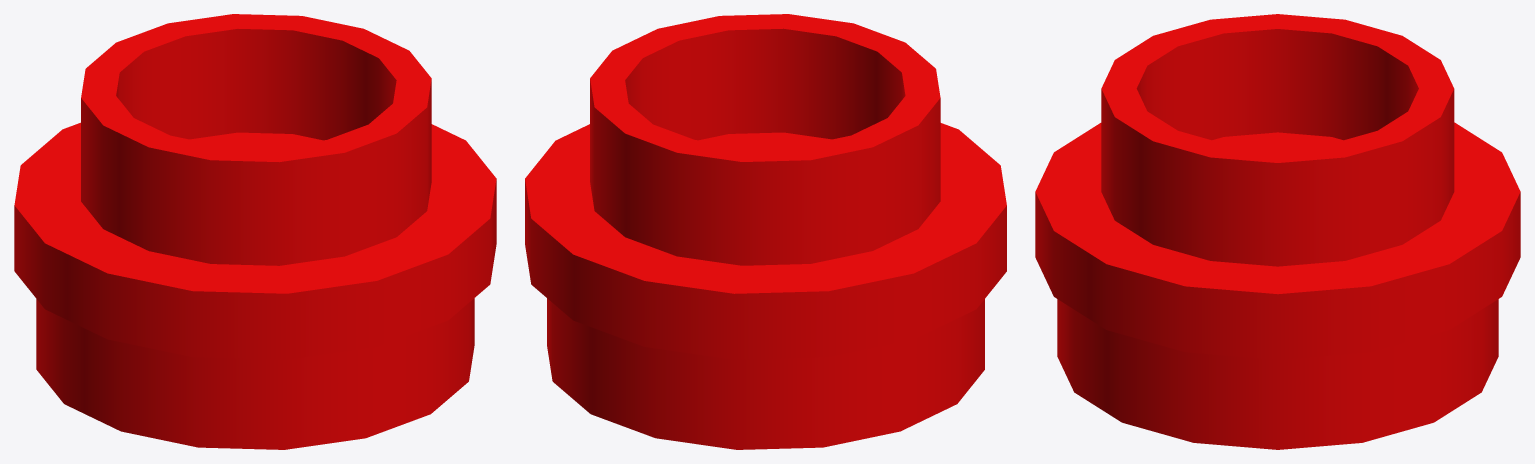
File: Stud.fbx
The picture shows the model from 3 angles, left to right: view 1: azimuth 30°, elevation 25°; view 2: azimuth 150°, elevation 25°; view 3: azimuth 270°, elevation 25°; orthographic projection.
Visible parts, largest first — view 1: Stud; view 2: Stud; view 3: Stud.
Boxes of the visible parts, x1,y1,x2,y2 form: Stud: (14,14,496,449); Stud: (525,14,1006,449); Stud: (1035,14,1520,449).
Bounding box in the file's own units: 30.65 × 18.72 × 30.65.
